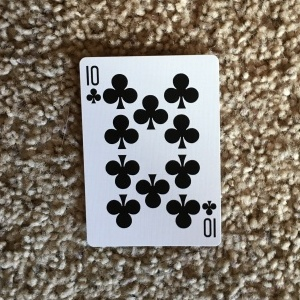card: (76, 52, 224, 248)
